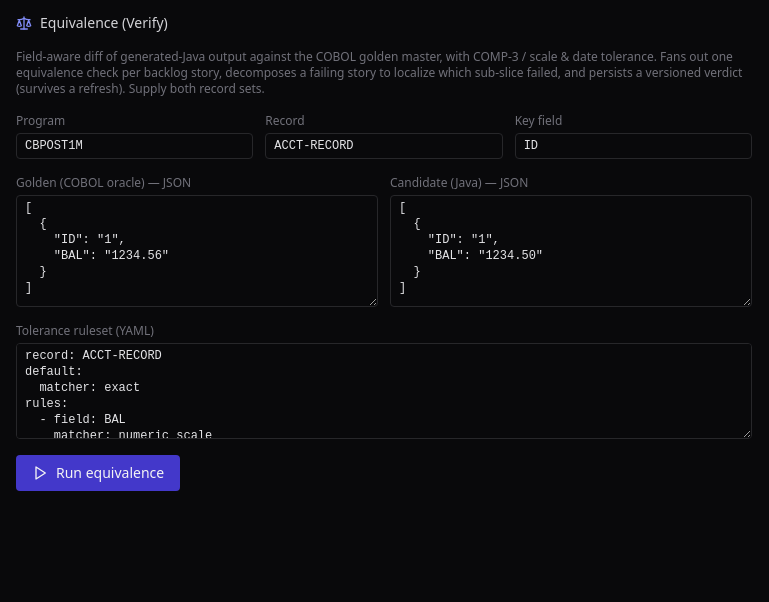
Test: EquivalenceLab › runs equivalence and shows the verdict + seam-linked defect
Click the button "Run equivalence". click: (98, 473)
box: x1=16 y1=455 x2=180 y2=491
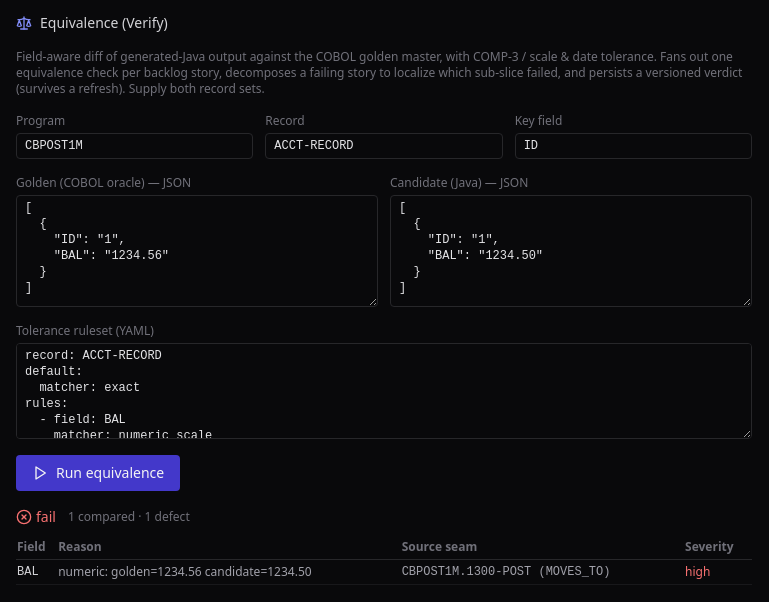
Now the text "fail" is shown, box x1=16 y1=507 x2=56 y2=527
Now the text "1 compared · 1 defect" is shown, box x1=68 y1=509 x2=190 y2=525
Now the text "BAL" is shown, box x1=16 y1=560 x2=57 y2=584
